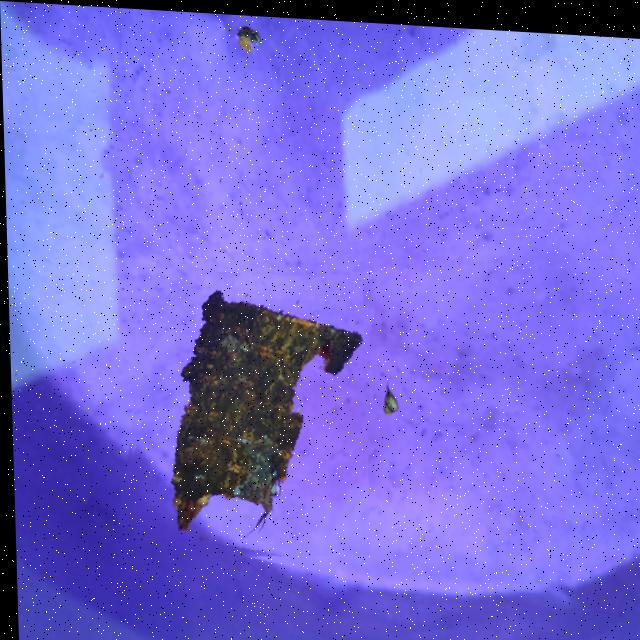litter: (119, 263, 368, 566)
